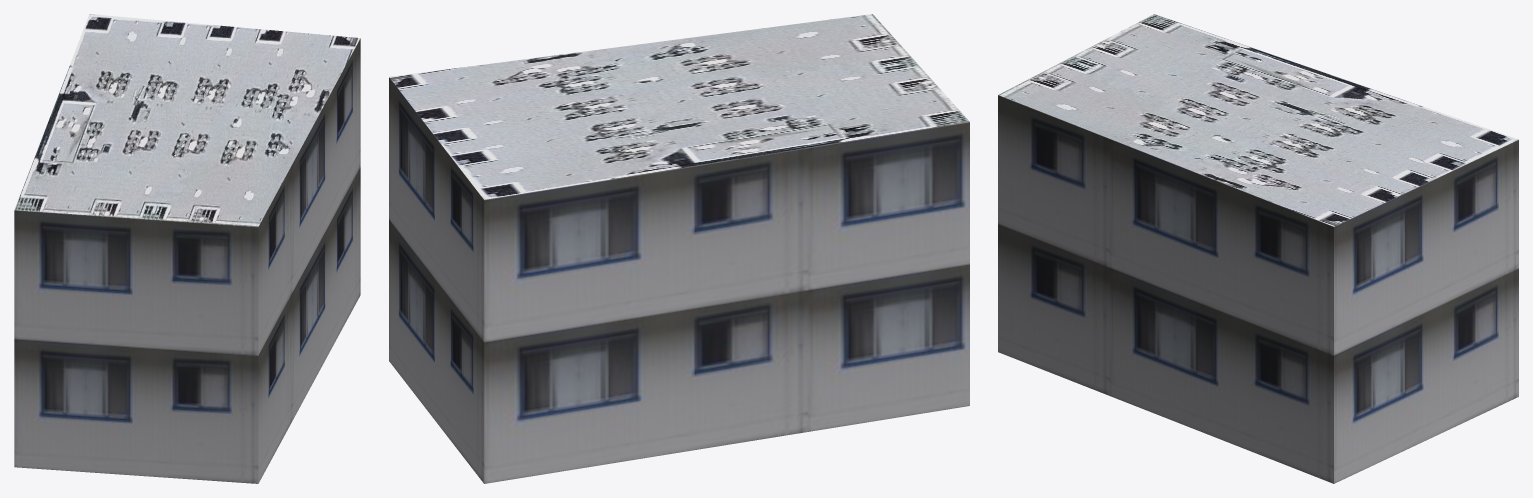
Rendered from ResTex__4948.fbx.
The picture shows the model from 3 angles, left to right: view 1: azimuth 30°, elevation 25°; view 2: azimuth 150°, elevation 25°; view 3: azimuth 270°, elevation 25°; orthographic projection. The views are drawn at different scales.
Visible parts, largest first — view 1: CityEngineMaterial_9_m, CityEngineMaterial_4_m; view 2: CityEngineMaterial_9_m, CityEngineMaterial_4_m; view 3: CityEngineMaterial_9_m, CityEngineMaterial_4_m.
Boxes of the visible parts, x1=… form: CityEngineMaterial_9_m: x1=14, y1=38, x2=360, y2=483; CityEngineMaterial_4_m: x1=14, y1=14, x2=360, y2=226; CityEngineMaterial_9_m: x1=389, y1=77, x2=969, y2=483; CityEngineMaterial_4_m: x1=389, y1=14, x2=969, y2=199; CityEngineMaterial_9_m: x1=998, y1=95, x2=1518, y2=483; CityEngineMaterial_4_m: x1=998, y1=14, x2=1518, y2=226.
Bounding box in the file's own units: 10.65 × 6 × 11.01.
2 materials, 2 textured.
